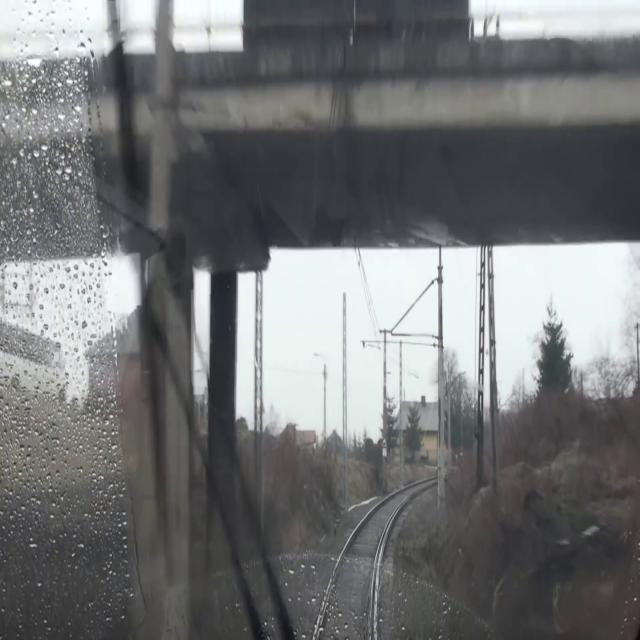rail-track: (322, 494, 403, 639)
